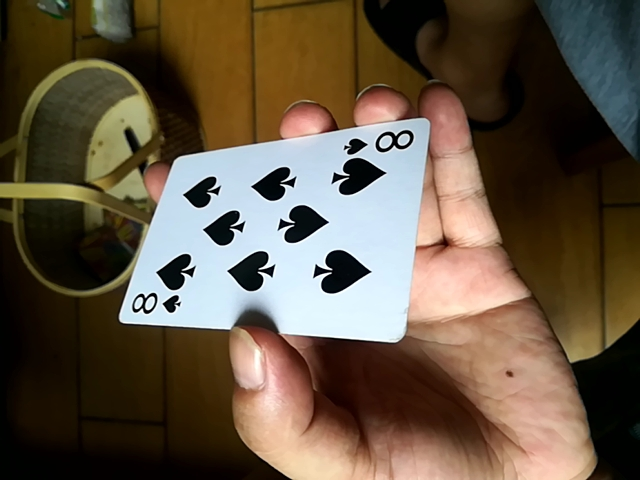ht 8: (122, 110, 431, 346)
